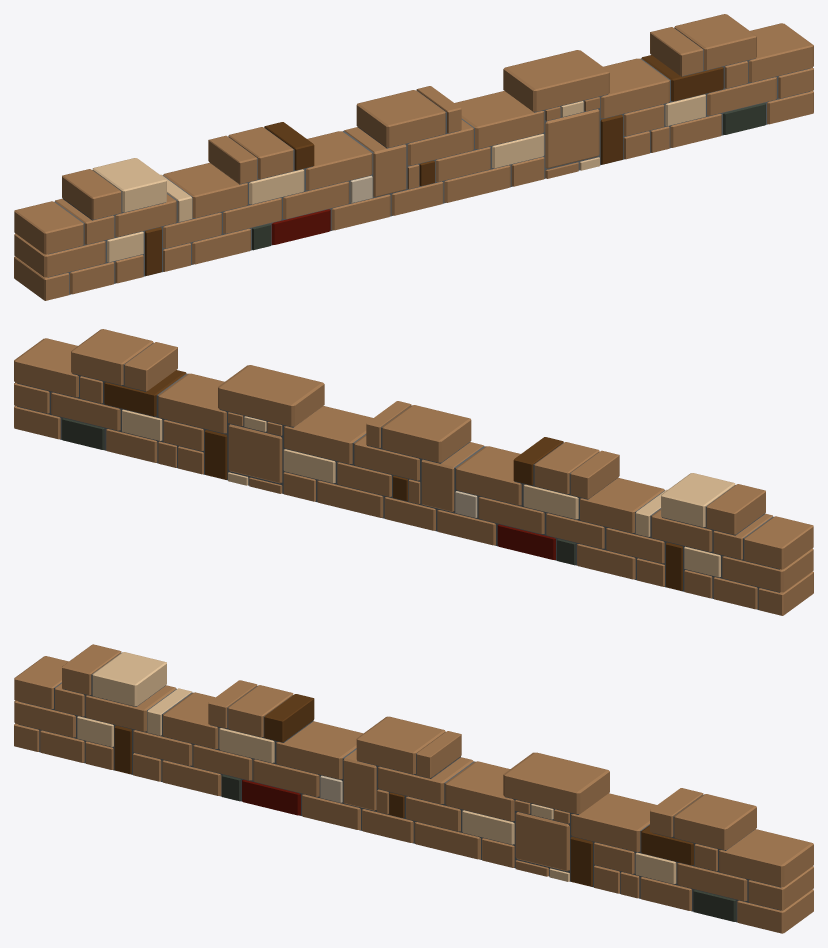
Rendered from region-5.glb.
3 renders of one model, top to bottom at view 1: azimuth 30°, elevation 25°; view 2: azimuth 150°, elevation 25°; view 3: azimuth 330°, elevation 25°, orthographic.
Visible parts, largest first — view 1: grout-6; view 2: grout-6; view 3: grout-6.
Part boxes in pixels (box(x1,y1,x2,y2)): grout-6: box(14, 14, 813, 300); grout-6: box(14, 329, 813, 615); grout-6: box(14, 644, 813, 933).
Bounding box in the file's own units: 20.9 × 2.38 × 1.5.
